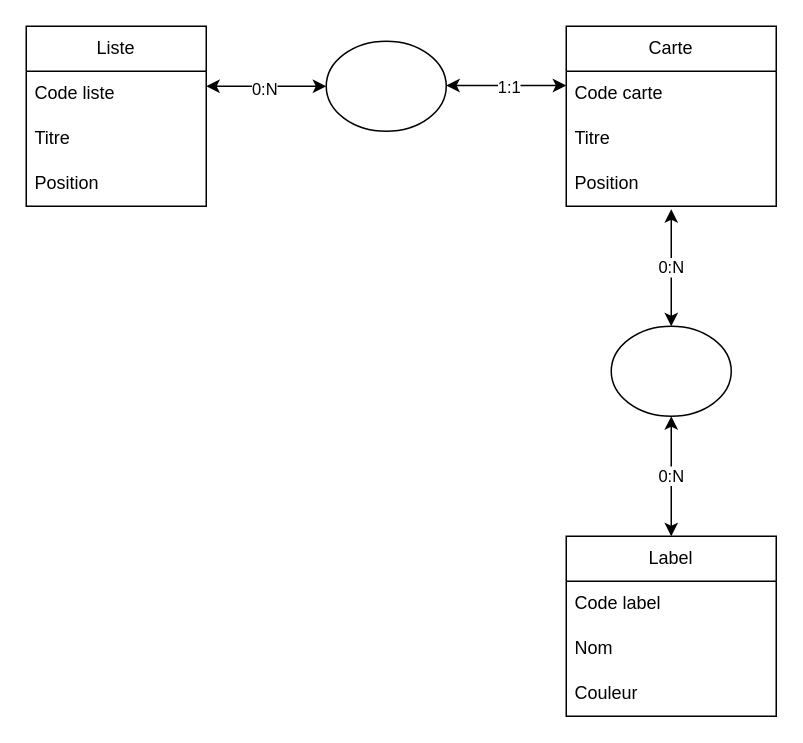
The diagram is 803 pixels wide and 743 high, and some of its shapes have lost their labels. The shapes that lost their labels are listed below. From the top down, each one's centre as x and y in pixels, then its label:
At point (385, 85): "contenir".
At point (670, 370): "correspondre".
